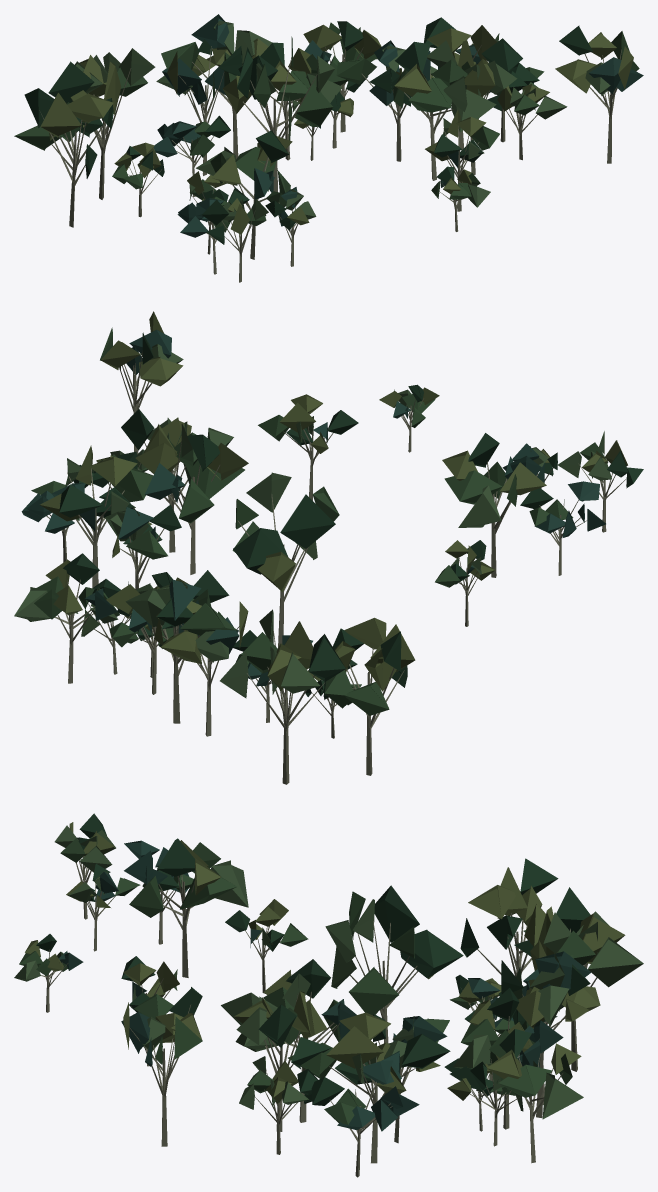
The model's file is forest_19_26.dae.
3 views of the same model, one above another, from view 1: azimuth 30°, elevation 25°; view 2: azimuth 150°, elevation 25°; view 3: azimuth 270°, elevation 25° (orthographic). The views are drawn at different scales.
Visible parts, largest first — view 1: Node; view 2: Node; view 3: Node.
Boxes of the visible parts, x1=… form: Node: x1=14, y1=14, x2=643, y2=282; Node: x1=14, y1=311, x2=643, y2=784; Node: x1=14, y1=813, x2=643, y2=1177.
Bounding box in the file's own units: 11.22 × 11.77 × 5.19.
